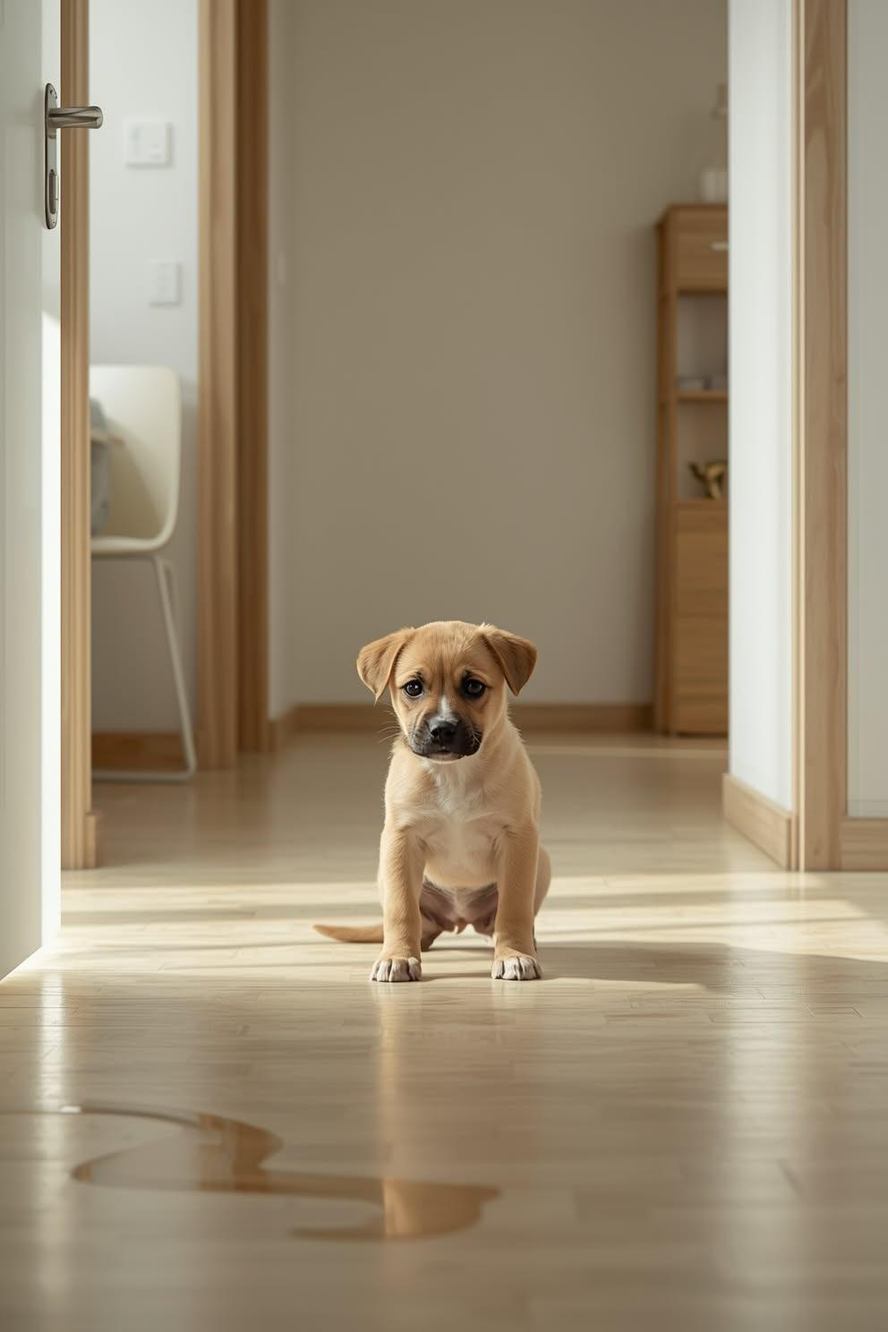puppy-dog: (312, 620, 552, 984)
